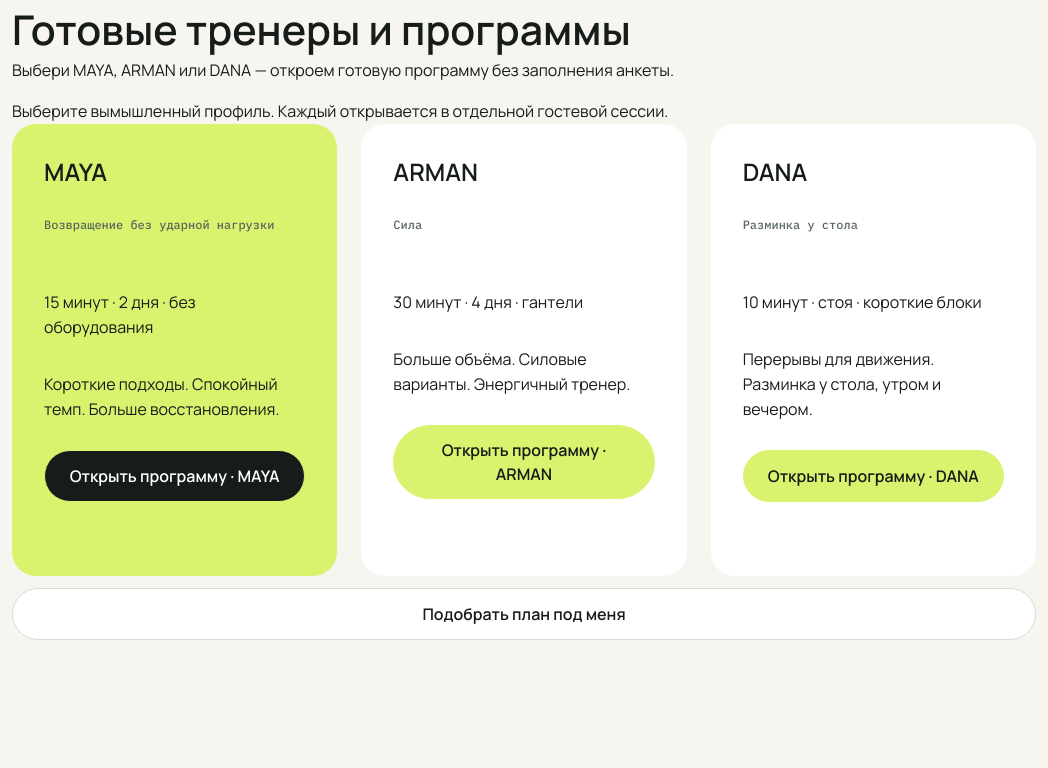
Test: explains when the server blocks demo program generation
The image size is (1048, 768).
Click the button "Открыть программу · MAYA".
click(175, 476)  # box x1=44 y1=450 x2=305 y2=502
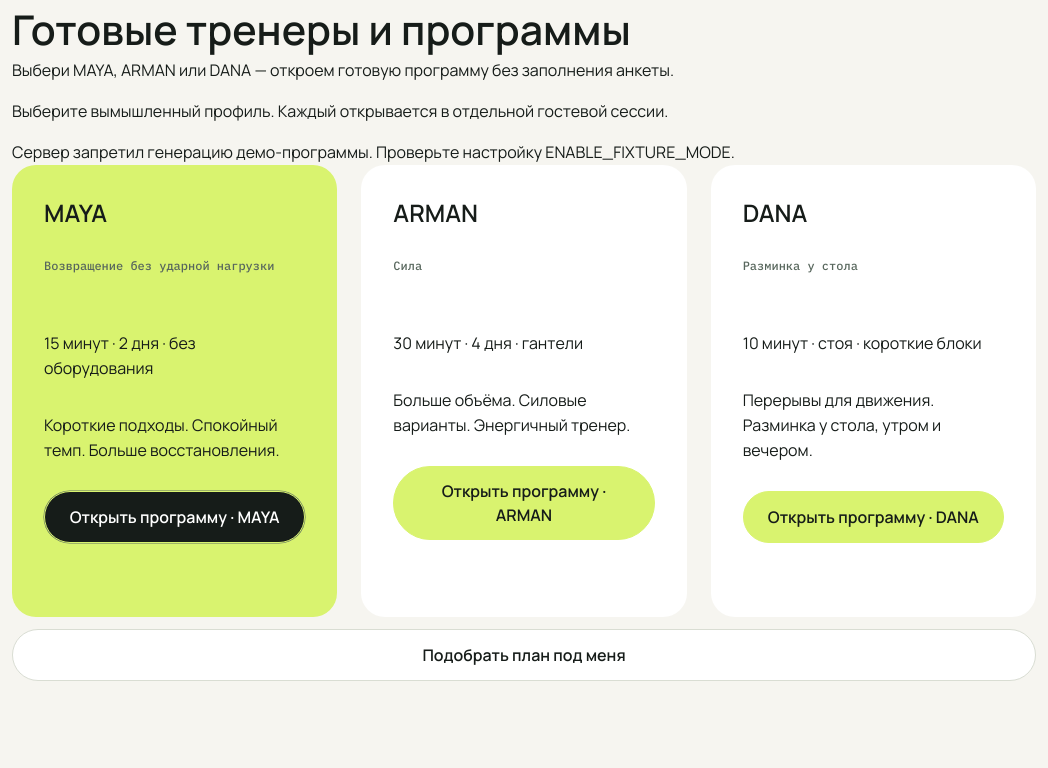
Result: the message shows "ENABLE_FIXTURE_MODE" at x1=12 y1=141 x2=735 y2=163
